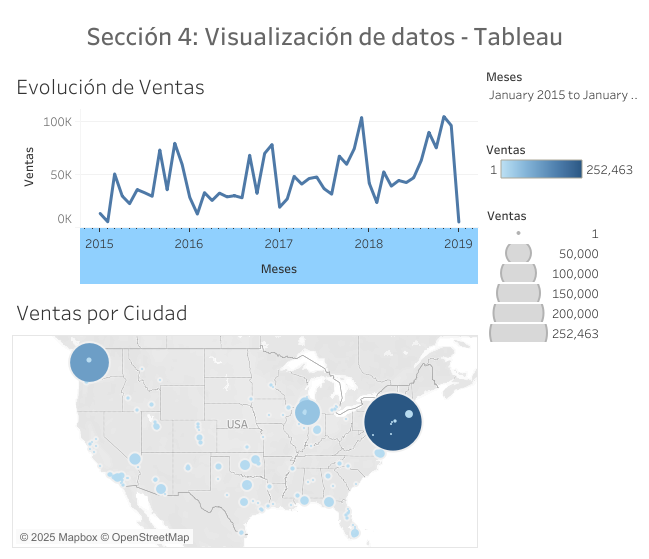

The dashboard page shown, as its layout file describes it:
{"tool":"tableau","page":{"name":"Dashboard 1","canvas":[650,860],"ordinal":0},"visuals":[{"type":"text","box":[8,12.3,634,82.9]},{"type":"worksheet","title":"Evolución de Ventas","mark":"Automatic","rows":["Sales"],"cols":["Ship Date"],"box":[8,95.2,474,347.1]},{"type":"filter","title":"Evolución de Ventas","param":"[federated.09f35mo1f2k4qc11bpxc80g1zcpa].[tmn:Ship Date:qk]","box":[482,95.2,160,106]},{"type":"legend","title":"Ventas por Ciudad","param":"[federated.09f35mo1f2k4qc11bpxc80g1zcpa].[sum:Sales:qk]","box":[482,201.2,160,99.8]},{"type":"legend","title":"Ventas por Ciudad","param":"[federated.09f35mo1f2k4qc11bpxc80g1zcpa].[sum:Sales:qk]","box":[482,301,160,224.2]},{"type":"worksheet","title":"Ventas por Ciudad","mark":"Automatic","box":[8,442.3,474,405.4]}]}

Visuals, with their boxes on the page's 650x860 design canvas (x1, y1, x2, y2). These are canvas units, not pixel positions in the 649x559 screenshot, which may show the page scaled, cropped or inside an application window:
text: locate(8, 12, 642, 95)
"Evolución de Ventas" worksheet: locate(8, 95, 482, 442)
"Evolución de Ventas" filter: locate(482, 95, 642, 201)
"Ventas por Ciudad" legend: locate(482, 201, 642, 301)
"Ventas por Ciudad" legend: locate(482, 301, 642, 525)
"Ventas por Ciudad" worksheet: locate(8, 442, 482, 848)
